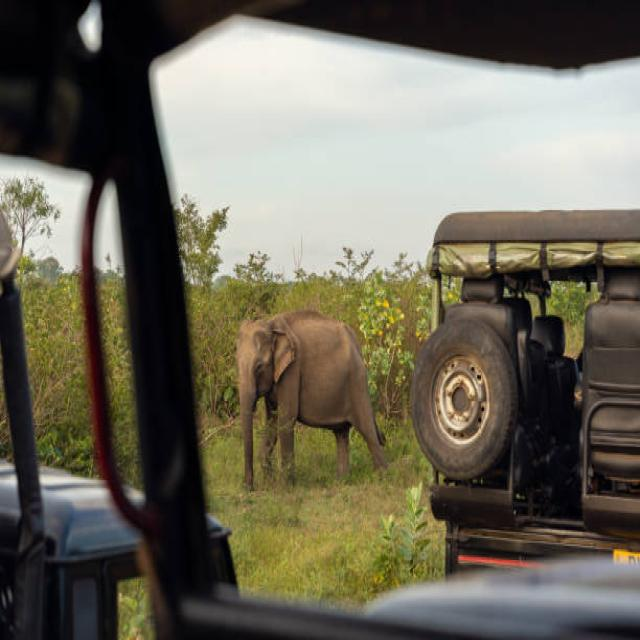Elephant: (228, 300, 392, 492)
